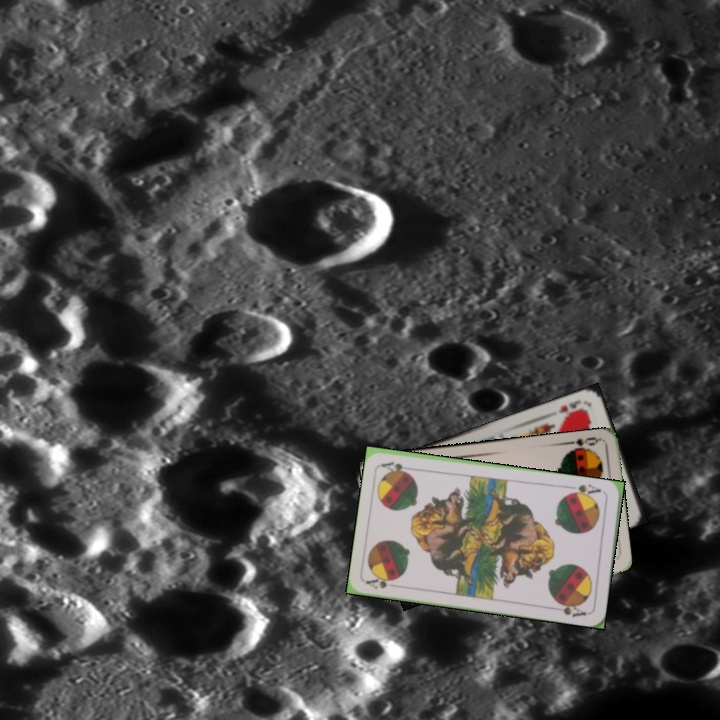HK: (554, 396, 583, 416)
SA: (362, 572, 403, 592), (565, 480, 603, 501)
SO: (561, 433, 602, 455)
